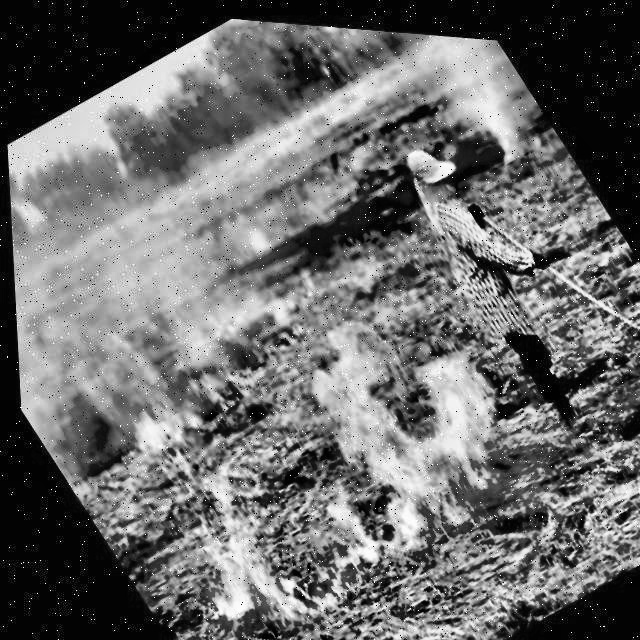Fire: (88, 230, 565, 640), (156, 244, 359, 423)
Smoke: (6, 141, 279, 495), (373, 24, 561, 176)
